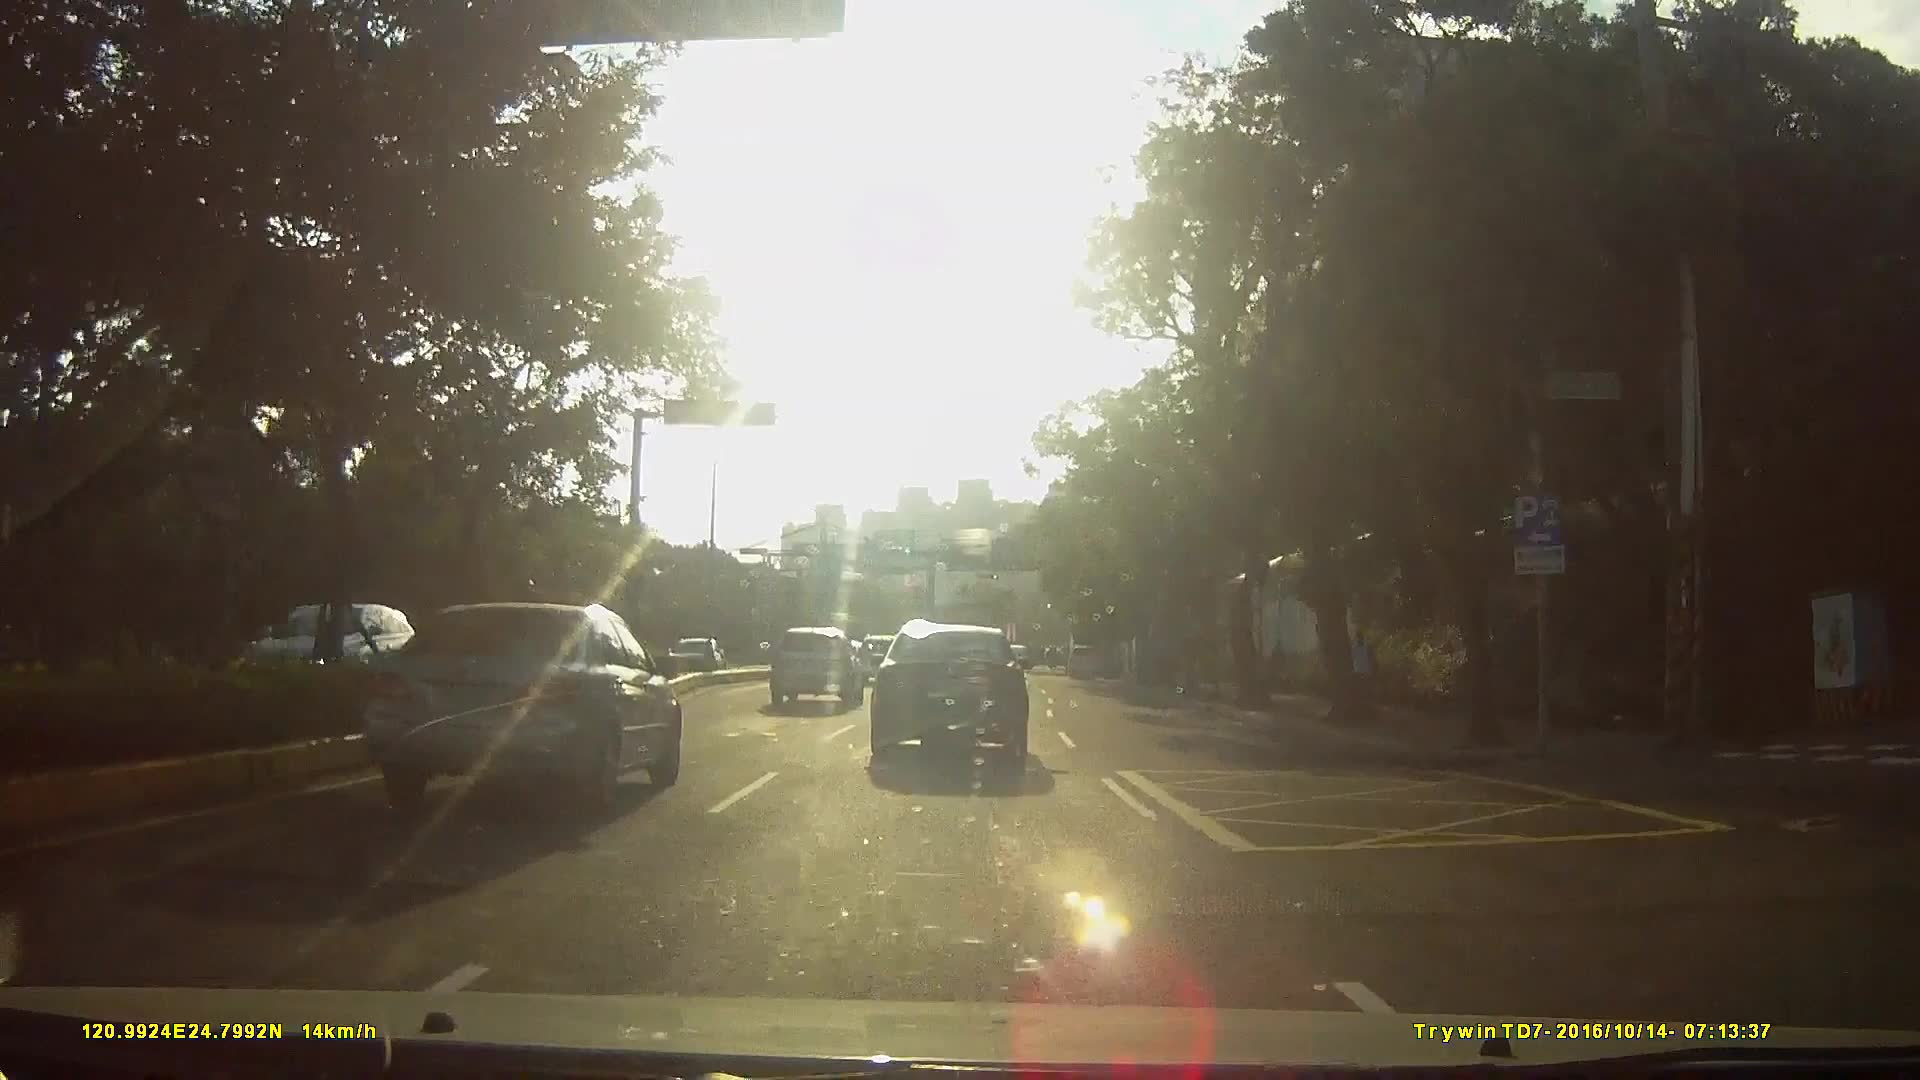vehicle: (356, 597, 680, 810), (866, 621, 1044, 767), (235, 599, 422, 702), (764, 622, 862, 708), (647, 632, 709, 676), (1062, 644, 1098, 680)
